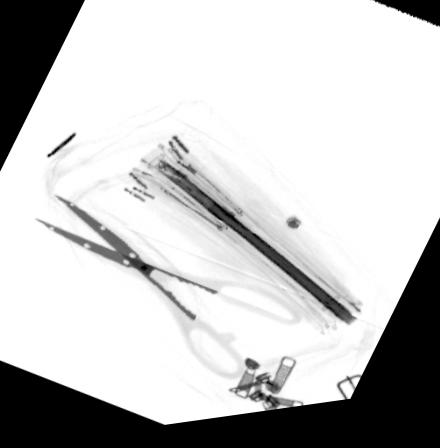Scissors: (33, 194, 302, 388)
